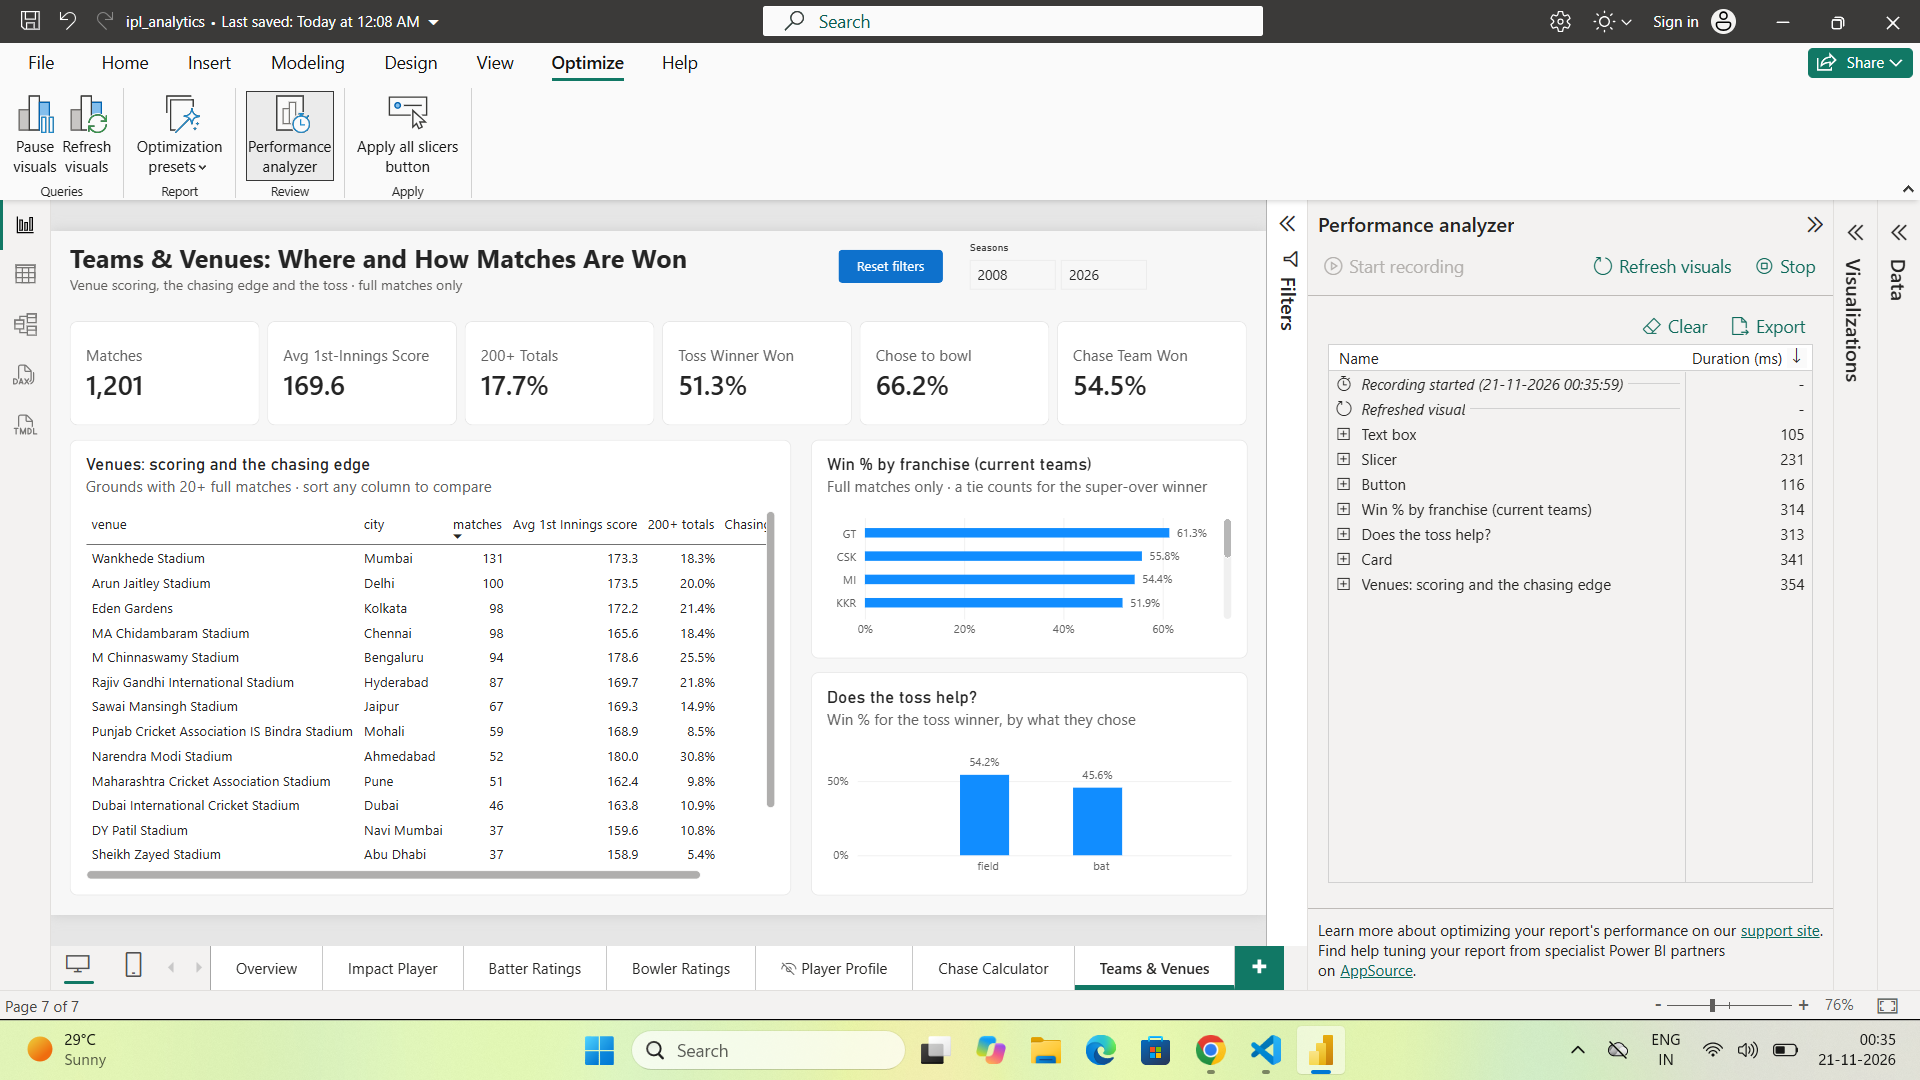

This screenshot's page, from the dashboard's own definition file:
{"tool":"powerbi","page":{"name":"Teams & Venues","canvas":[1280,720],"ordinal":6},"visuals":[{"type":"textbox","box":[20,10,900,70],"z":0},{"type":"slicer","fields":{"Values":["dim_season.season"]},"box":[960,10,300,70],"z":1000},{"type":"cardVisual","fields":{"Data":["_Measures.Matches Display","_Measures.Avg 1st Innings Total","_Measures.200+ Innings %","_Measures.Toss Winner Win %","_Measures.Chose to Bowl %","_Measures.Chase Win %"]},"box":[20,95,1240,110],"z":2000},{"type":"tableEx","title":"Venues: scoring and the chasing edge","fields":{"Values":["dim_match.venue","dim_match.city","_Measures.Full Matches","_Measures.Avg 1st Innings Total","_Measures.200+ Innings %","_Measures.Chase Win %"]},"box":[20,220,760,480],"z":2001},{"type":"clusteredBarChart","title":"Win % by franchise (current teams)","fields":{"Category":["dim_team.short_name"],"Y":["_Measures.Team Win %"]},"box":[800,220,460,230],"z":2002},{"type":"clusteredColumnChart","title":"Does the toss help?","fields":{"Category":["dim_match.toss_decision"],"Y":["_Measures.Toss Winner Win %"]},"box":[800,465,460,235],"z":2003},{"type":"actionButton","box":[830,20,110,35],"z":2004}]}

Visuals, with their boxes on the page's 1280x720 design canvas (x1, y1, x2, y2). These are canvas units, not pixel positions in the 1920x1080 screenshot, which may show the page scaled, cropped or inside an application window:
textbox: box=[20, 10, 920, 80]
slicer - dim_season.season: box=[960, 10, 1260, 80]
cardVisual - _Measures.Matches Display x _Measures.Avg 1st Innings Total: box=[20, 95, 1260, 205]
"Venues: scoring and the chasing edge" tableEx: box=[20, 220, 780, 700]
"Win % by franchise (current teams)" clusteredBarChart: box=[800, 220, 1260, 450]
"Does the toss help?" clusteredColumnChart: box=[800, 465, 1260, 700]
actionButton: box=[830, 20, 940, 55]
